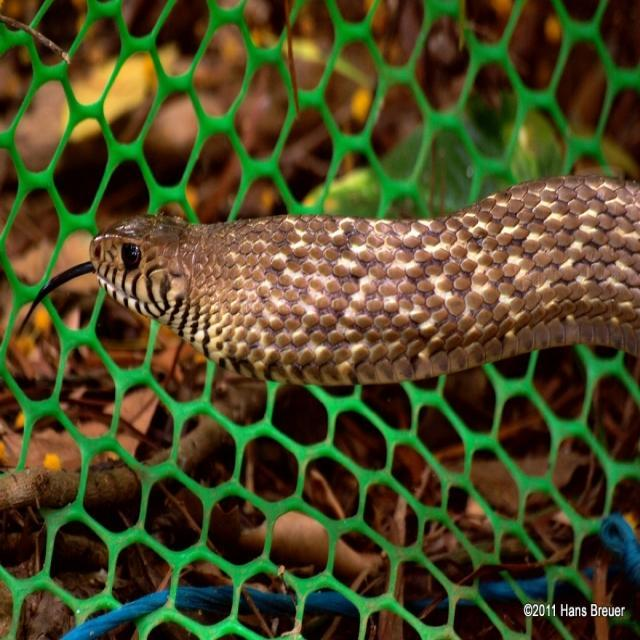Snake: (14, 163, 640, 391)
